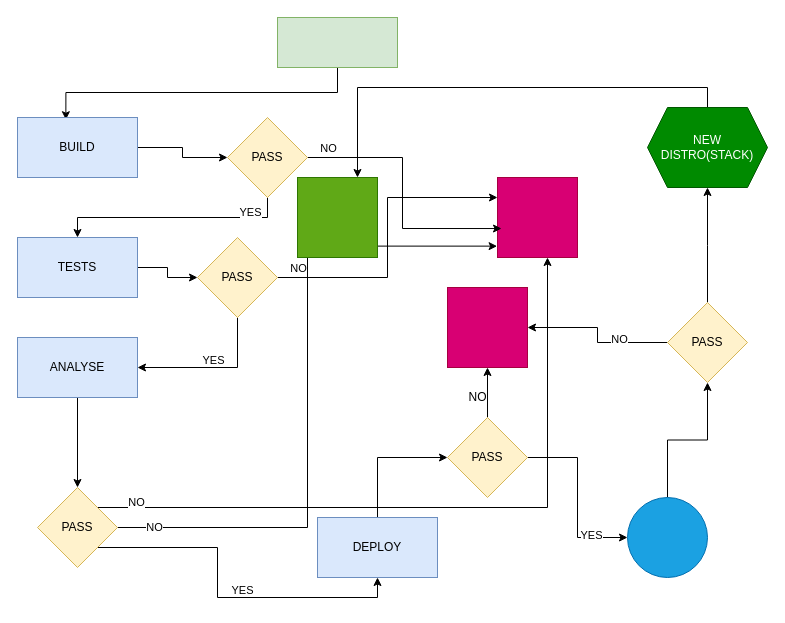
Image size: 785x623. Some labels were removed from this diagram. The centre of each missing label's shape, as x and y in pixels:
FAILURE MESSAGE IN SLACK: (537,217)
PUSH: (337,42)
ROLLBACK (REVERT MIGRATION): (487,327)
SMOKE TEST: (667,537)
SUCCESS MESSAGE IN SLACK: (337,217)
